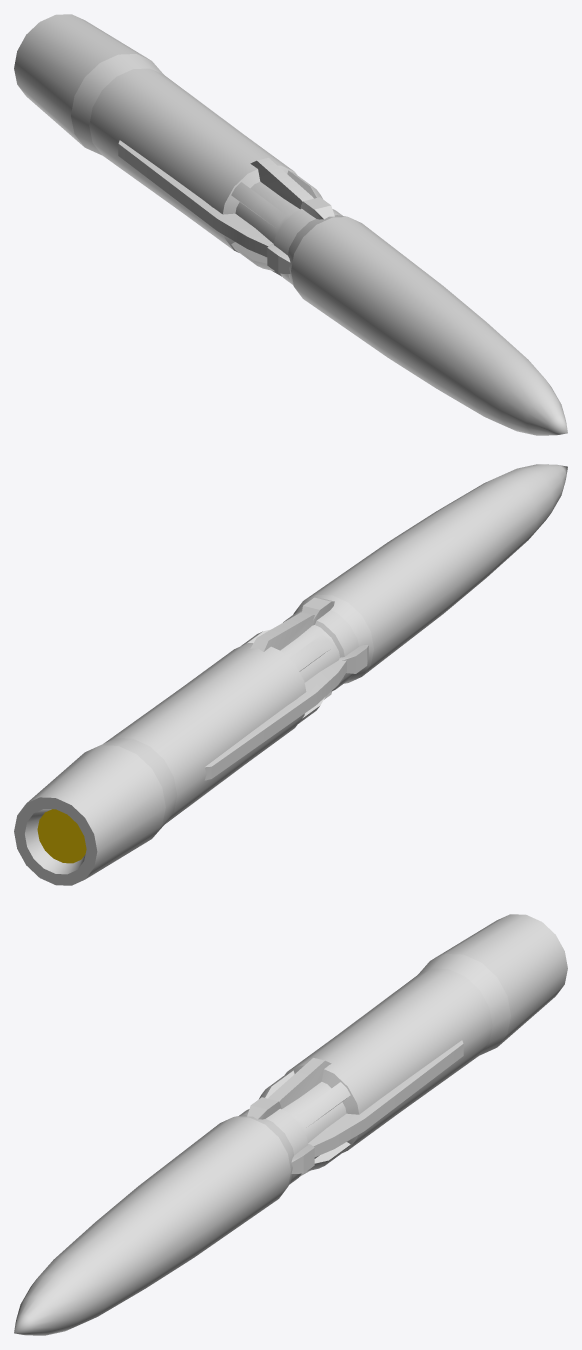
File: VGM-3 Export.fbx
3 renders of one model, top to bottom at view 1: azimuth 30°, elevation 25°; view 2: azimuth 150°, elevation 25°; view 3: azimuth 330°, elevation 25°, orthographic.
Parts seen in each view (by area): view 1: VSM-3 Stage 2, VSM-3 Stage 1; view 2: VSM-3 Stage 1, VSM-3 Stage 2; view 3: VSM-3 Stage 2, VSM-3 Stage 1.
Part boxes in pixels (x1,y1,x2,y2): VSM-3 Stage 2: (231, 170, 567, 435); VSM-3 Stage 1: (14, 14, 313, 276); VSM-3 Stage 1: (14, 612, 346, 885); VSM-3 Stage 2: (241, 464, 567, 723); VSM-3 Stage 2: (14, 1070, 350, 1335); VSM-3 Stage 1: (268, 914, 567, 1176).
Bounding box in the file's own units: 11.83 × 106 × 11.6.
